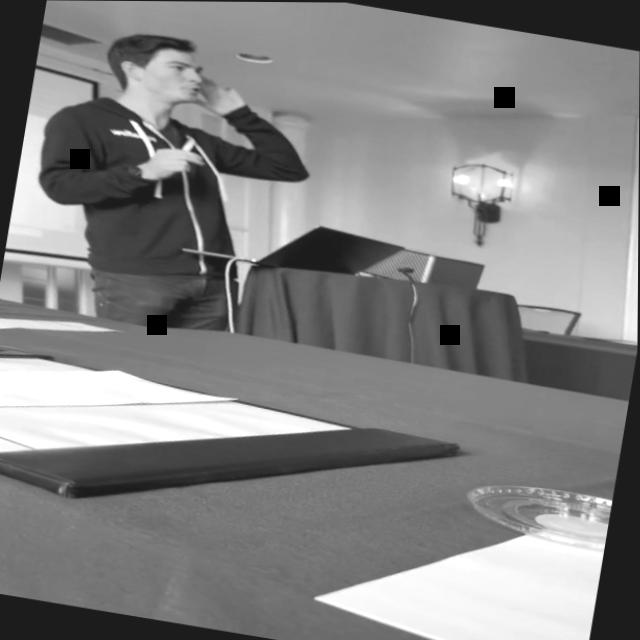NO-Mask: (106, 37, 217, 105)
